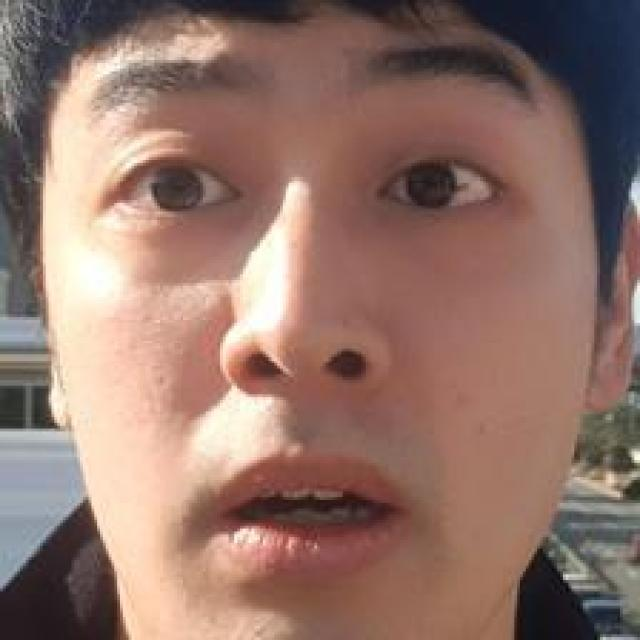fear: (80, 37, 540, 580)
